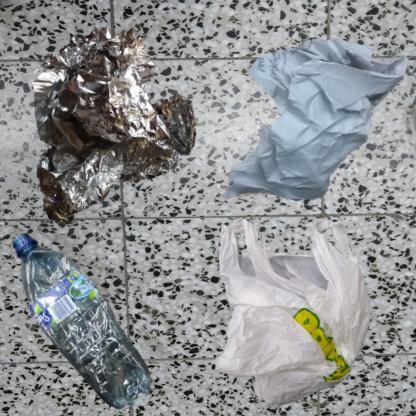aluminio: (10, 10, 218, 239)
bolsa: (213, 213, 375, 412)
botella: (10, 213, 171, 416)
papel: (213, 10, 416, 252)
